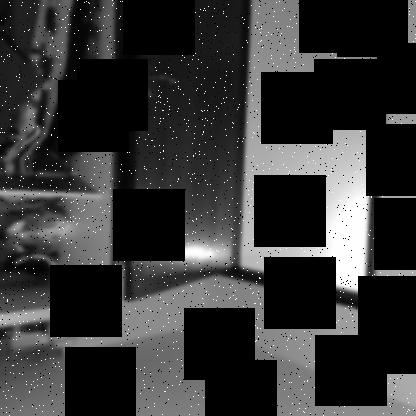Porte: (121, 1, 396, 315)
